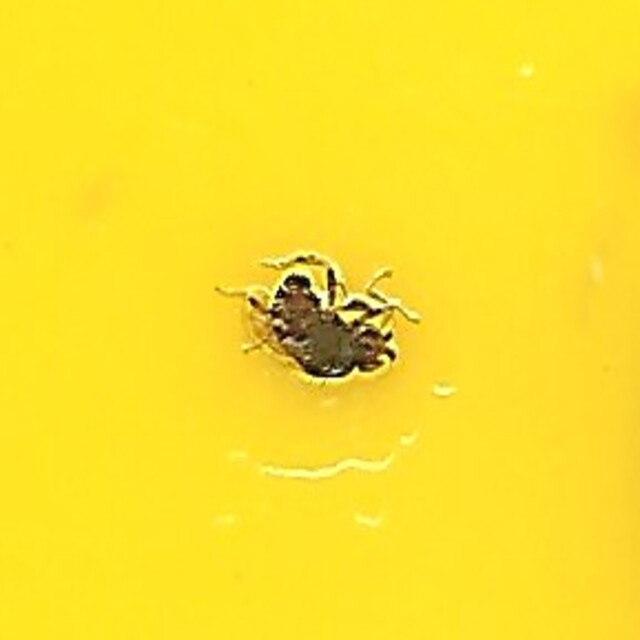Brachycera: (221, 255, 419, 385)
